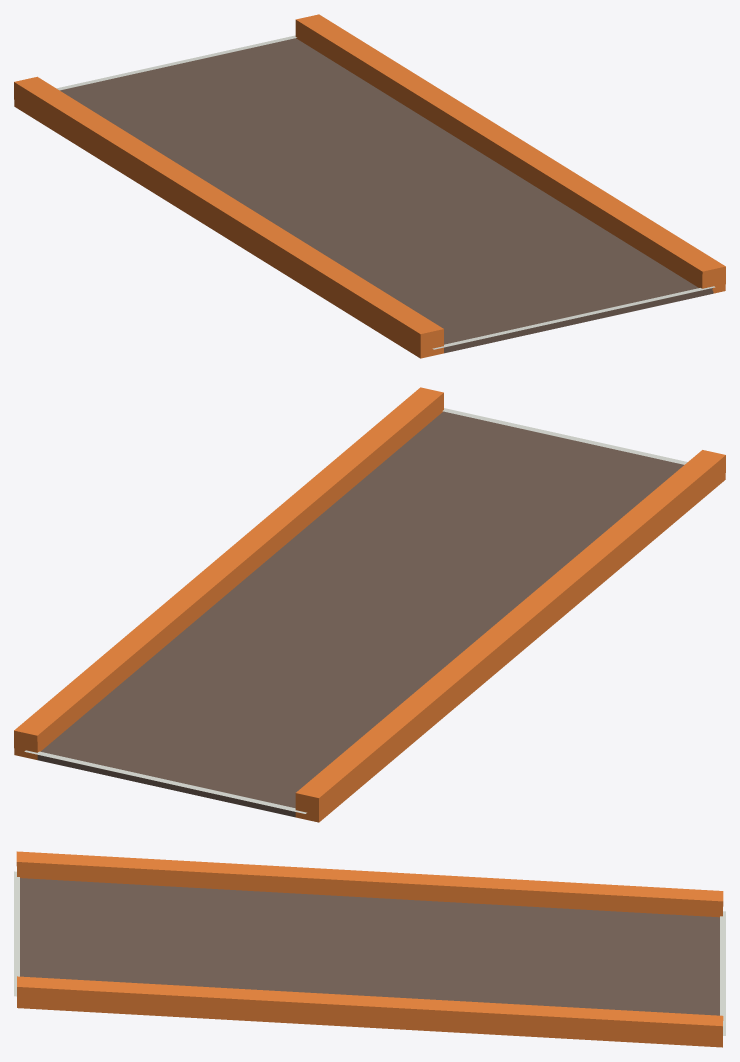
The model's file is SM_MP_Film_A_0_2.fbx.
3 views of the same model, one above another, from view 1: azimuth 30°, elevation 25°; view 2: azimuth 150°, elevation 25°; view 3: azimuth 270°, elevation 25° (orthographic). The views are drawn at different scales.
Visible parts, largest first — view 1: SM_MP_Film_A_0_2; view 2: SM_MP_Film_A_0_2; view 3: SM_MP_Film_A_0_2.
Part boxes in pixels (x1,y1,x2,y2): SM_MP_Film_A_0_2: [14, 14, 725, 358]; SM_MP_Film_A_0_2: [14, 387, 725, 822]; SM_MP_Film_A_0_2: [14, 851, 725, 1047].
Size of what is drawn, in the model's own units: 260 by 605 by 62.62.
